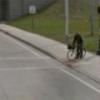bicycles: (66, 42, 88, 62)
